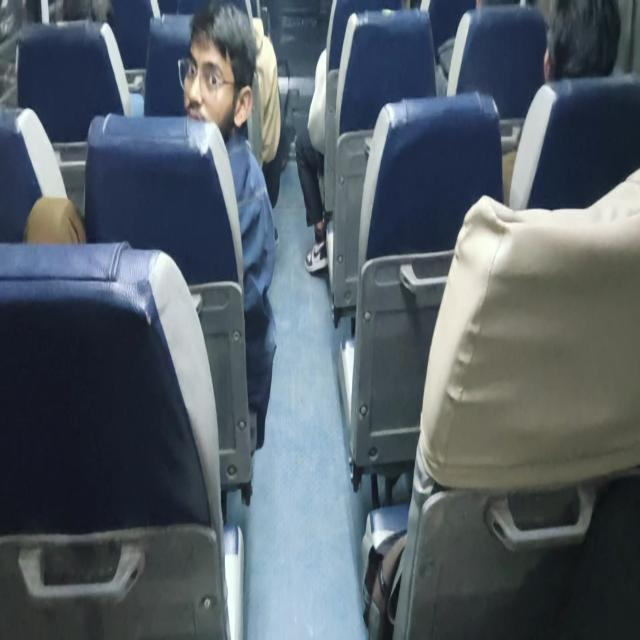person: (541, 0, 608, 102), (171, 29, 238, 102)
